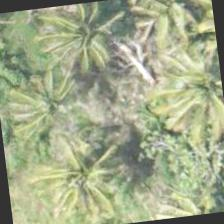Kelapa_Sawit: (30, 124, 130, 224), (0, 53, 99, 154), (36, 0, 135, 81), (155, 29, 223, 128), (126, 0, 217, 59)
